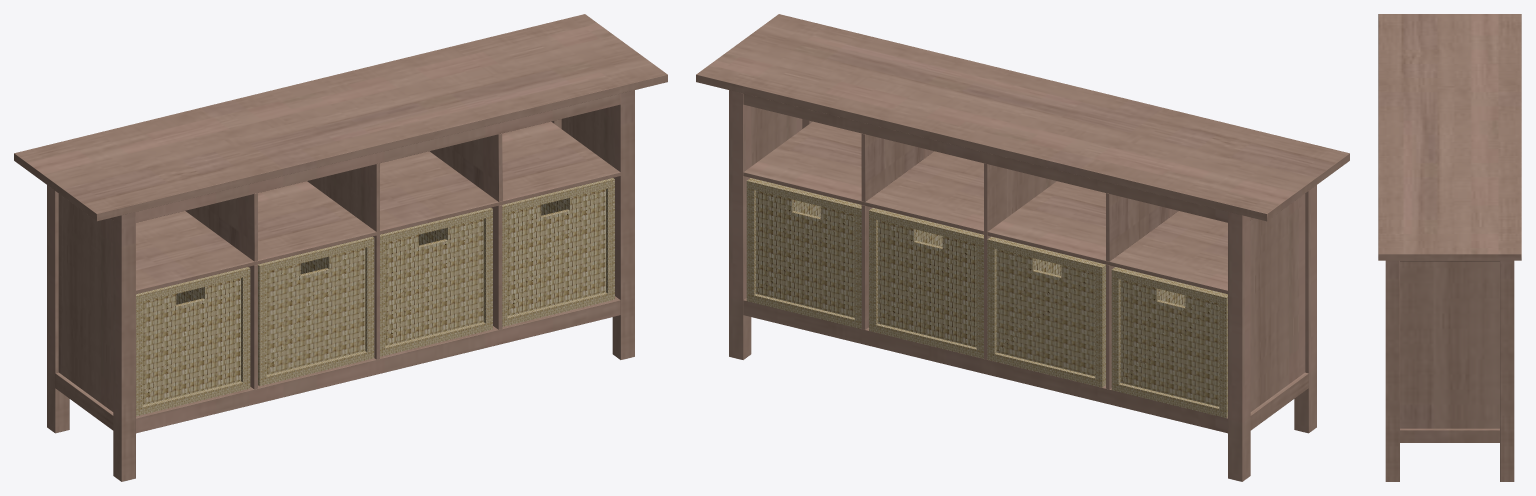
The model's file is shoe_rack.glb.
The picture shows the model from 3 angles, left to right: view 1: azimuth 30°, elevation 25°; view 2: azimuth 150°, elevation 25°; view 3: azimuth 270°, elevation 25°; orthographic projection. The views are drawn at different scales.
Visible parts, largest first — view 1: Geom3D (×14), Geom3D_podi (×3), Geom3D_plaino (×2), Geom3D_katakoryfo2 (×2), Geom3D_Katakoryfo 1, Geom3D_Katakoryfo 3 (×2); view 2: Geom3D (×14), Geom3D_podi (×3), Geom3D_plaino (×2), Geom3D_katakoryfo2 (×2), Geom3D_Katakoryfo 1, Geom3D_Katakoryfo 3 (×2); view 3: Geom3D (×3), Geom3D_plaino, Geom3D_podi (×2).
Part boxes in pixels (x1,y1,x2,y2): Geom3D (×14): [14, 14, 667, 433]; Geom3D_podi (×3): [47, 90, 634, 481]; Geom3D_plaino (×2): [58, 106, 612, 411]; Geom3D_katakoryfo2 (×2): [185, 133, 502, 261]; Geom3D_Katakoryfo 1: [307, 163, 379, 359]; Geom3D_Katakoryfo 3 (×2): [249, 205, 502, 389]; Geom3D (×14): [696, 14, 1349, 433]; Geom3D_podi (×3): [729, 90, 1316, 481]; Geom3D_plaino (×2): [751, 106, 1305, 411]; Geom3D_katakoryfo2 (×2): [861, 133, 1178, 261]; Geom3D_Katakoryfo 1: [984, 163, 1056, 359]; Geom3D_Katakoryfo 3 (×2): [861, 205, 1114, 389]; Geom3D (×3): [1378, 14, 1521, 442]; Geom3D_plaino: [1400, 261, 1499, 428]; Geom3D_podi (×2): [1385, 260, 1514, 481].
Bounding box in the file's own units: 1.59 × 0.74 × 0.4001.
Materials: 2 (2 with a texture image).
